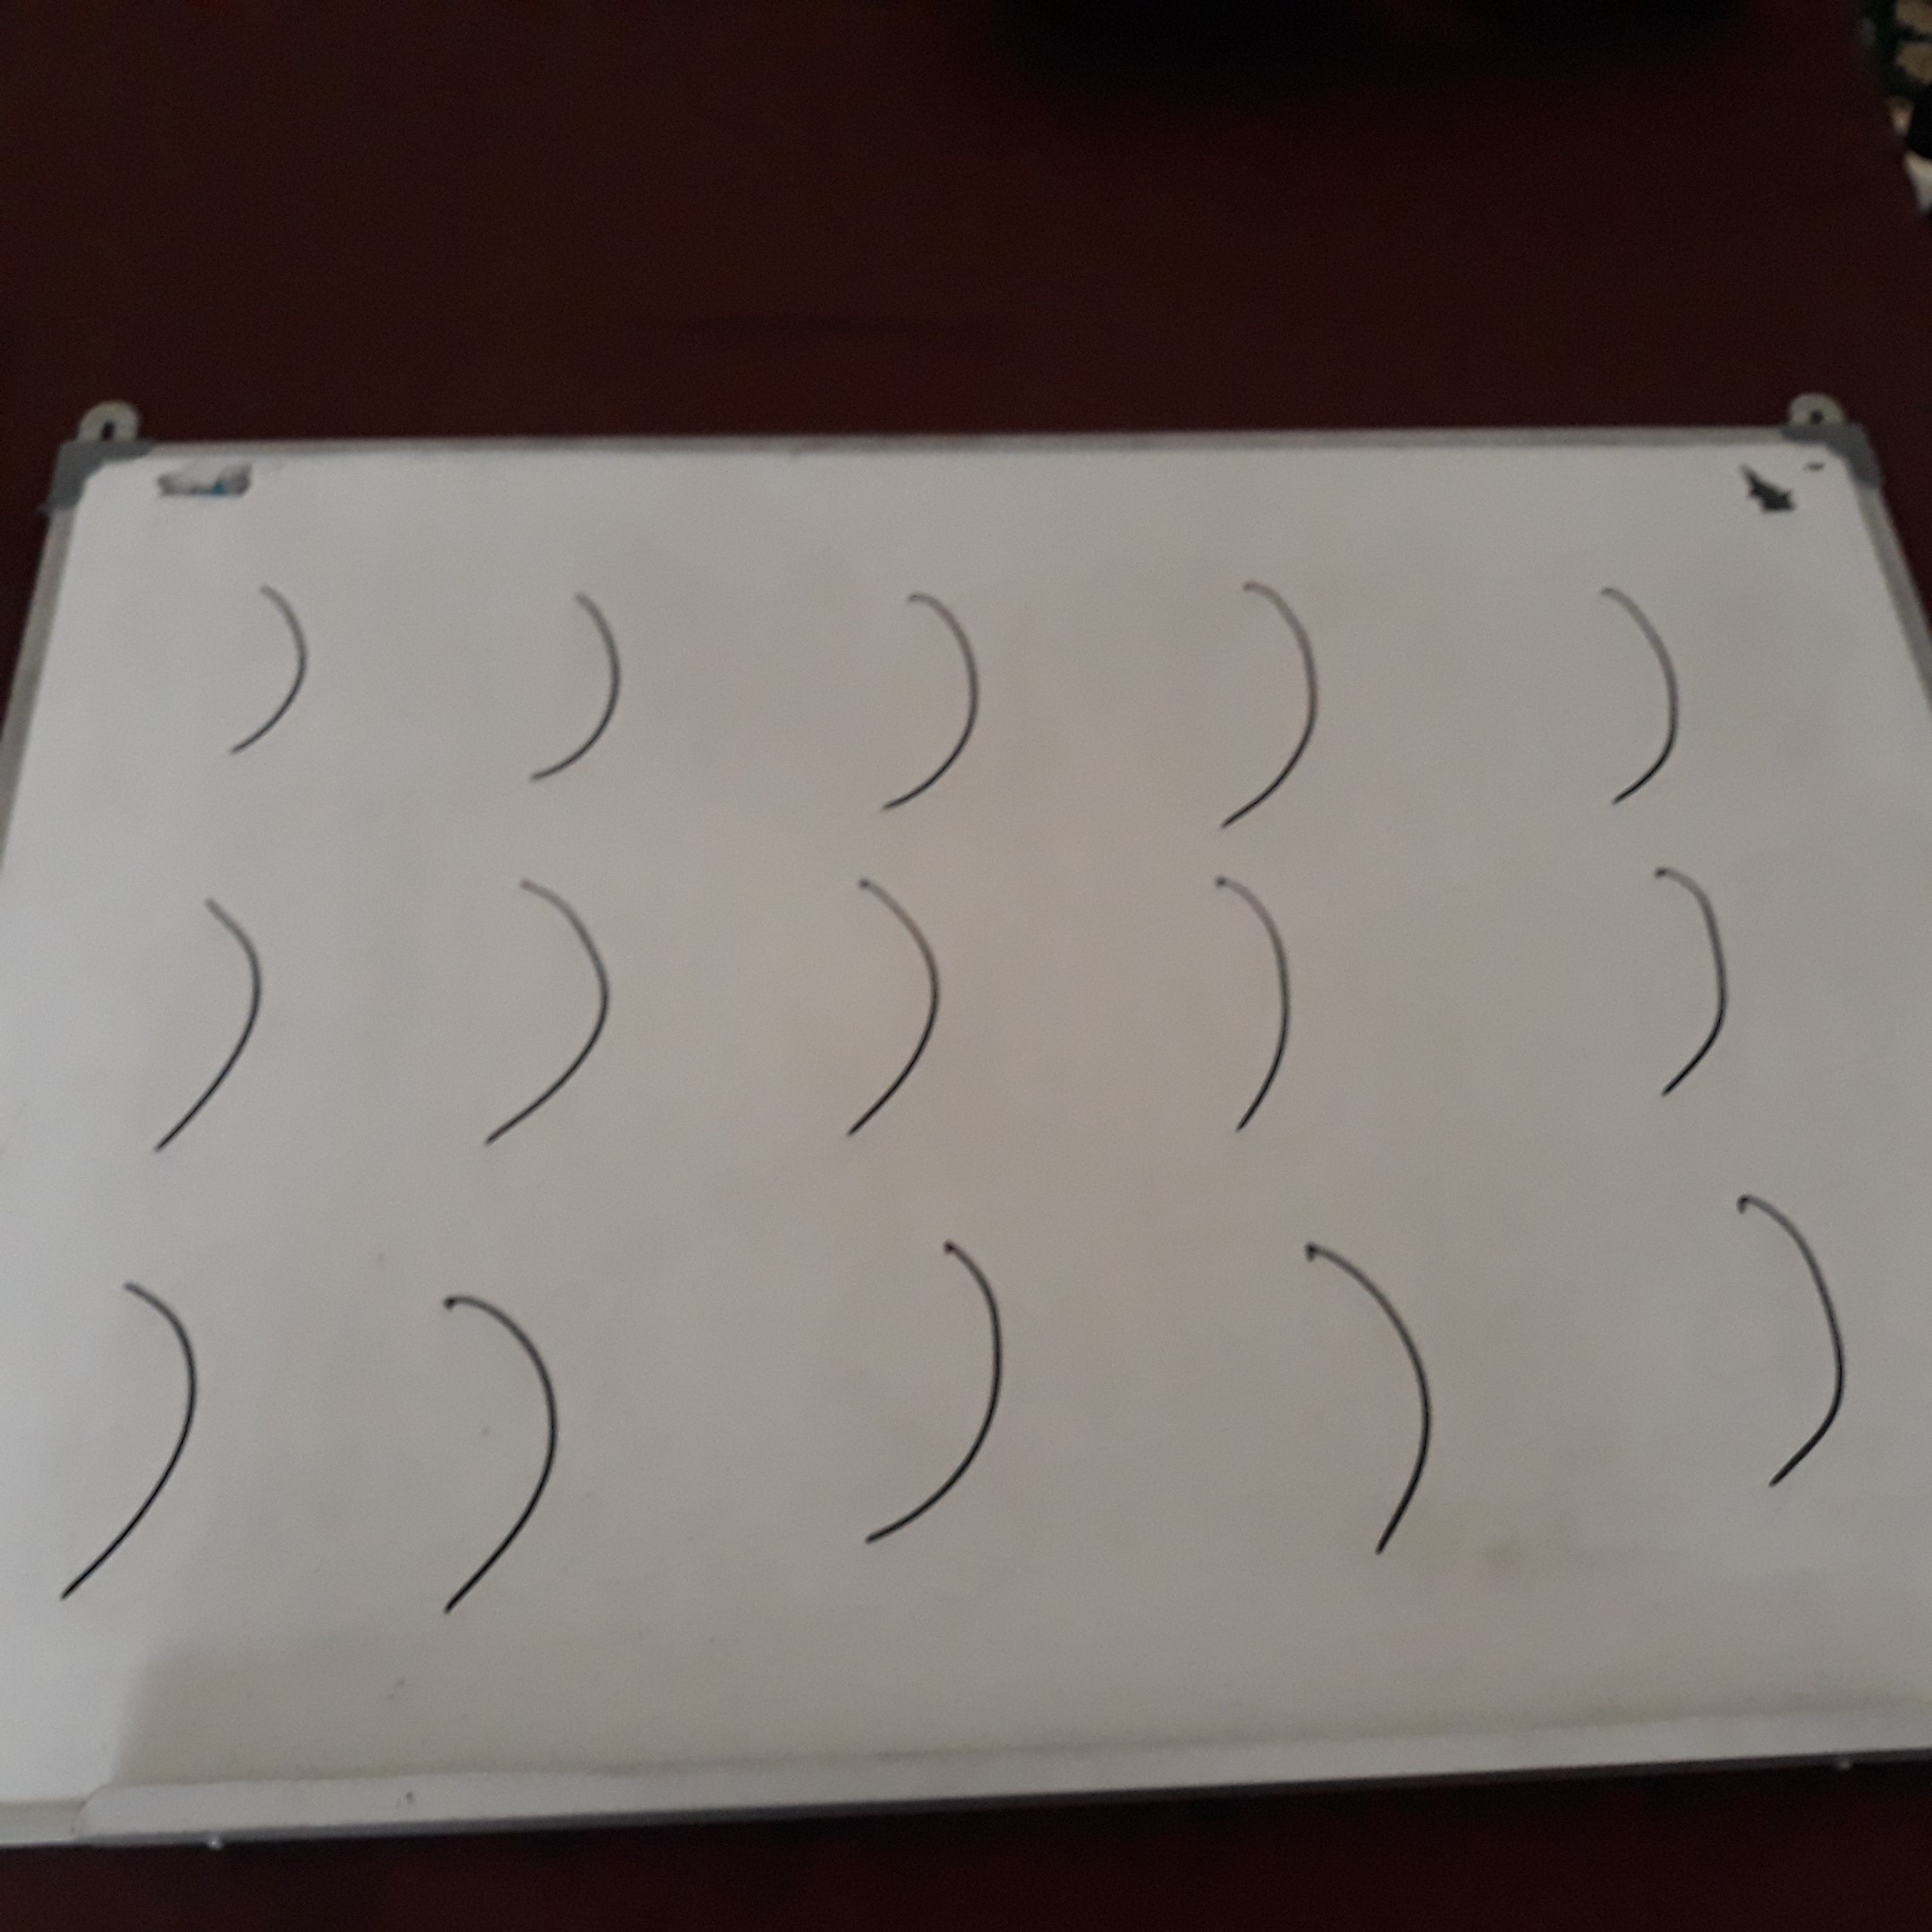closebracket: (29, 1257, 245, 1618), (836, 1236, 1065, 1557), (1272, 1233, 1485, 1564), (396, 1286, 586, 1622), (1704, 1188, 1874, 1514), (460, 861, 635, 1173), (1182, 868, 1343, 1157), (131, 884, 297, 1162), (1563, 558, 1726, 837), (851, 575, 1013, 834), (1194, 569, 1339, 852), (826, 871, 962, 1160), (1626, 858, 1760, 1117), (200, 569, 344, 772), (517, 580, 635, 792)
